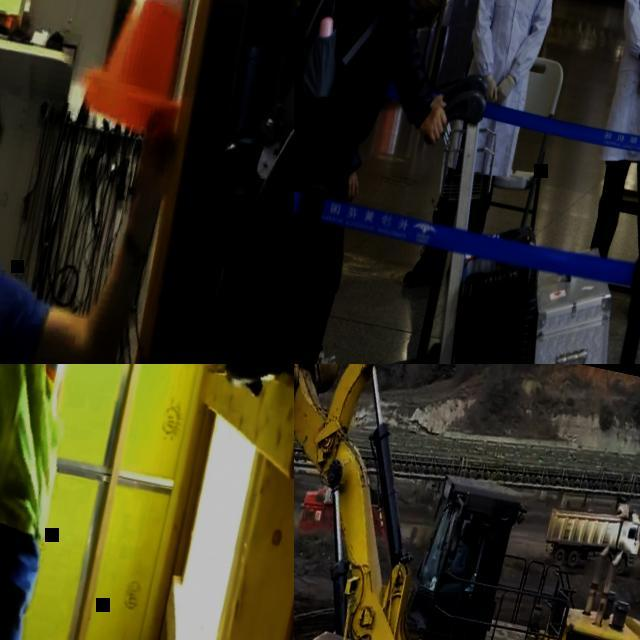vest: (0, 364, 189, 553)
